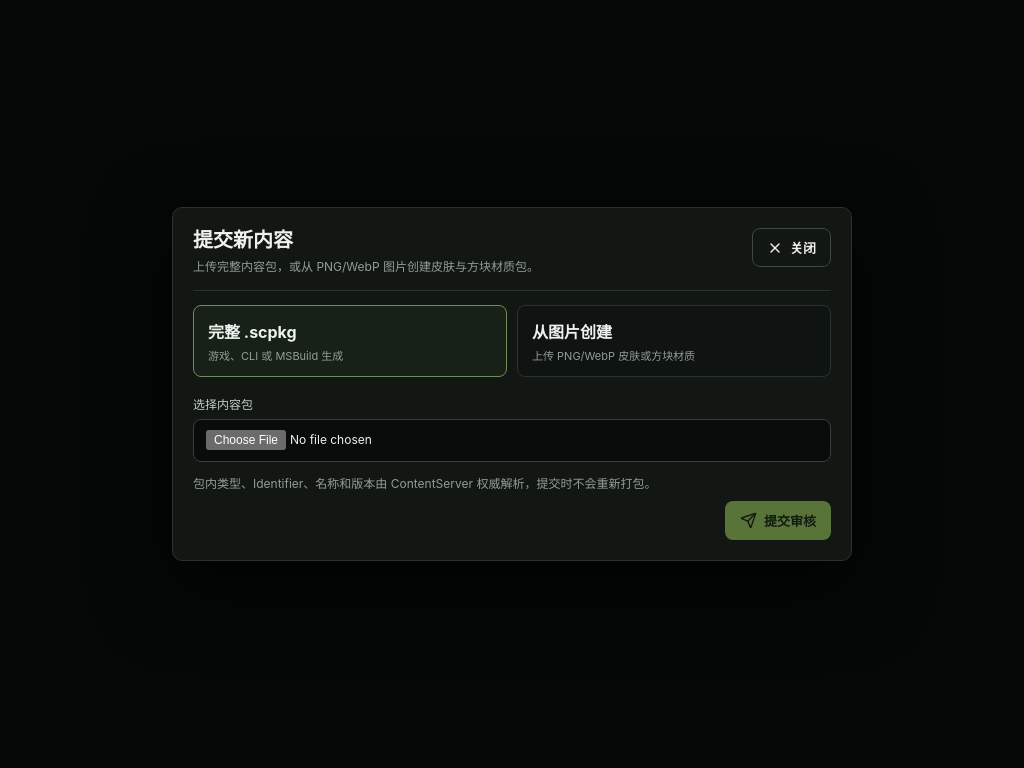
Test: ContentSubmissionDialog › separates authoritative package upload from limited image manufacturing
Click the button "从图片创建 上传 PNG/WebP 皮肤或方块材质" at (572, 332), box [517,305,831,377]
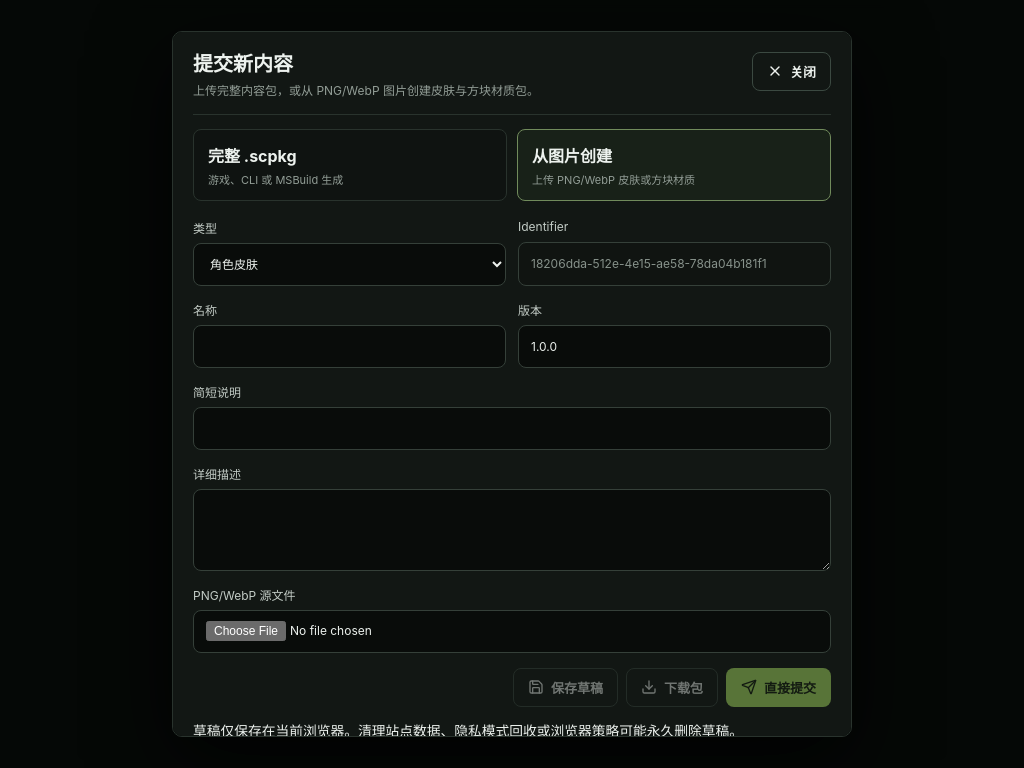
Expected: the text "上传 PNG/WebP 皮肤或方块材质" is shown, [532,173,695,187]
Now the text "草稿仅保存在当前浏览器" is shown, box [193,724,743,737]
